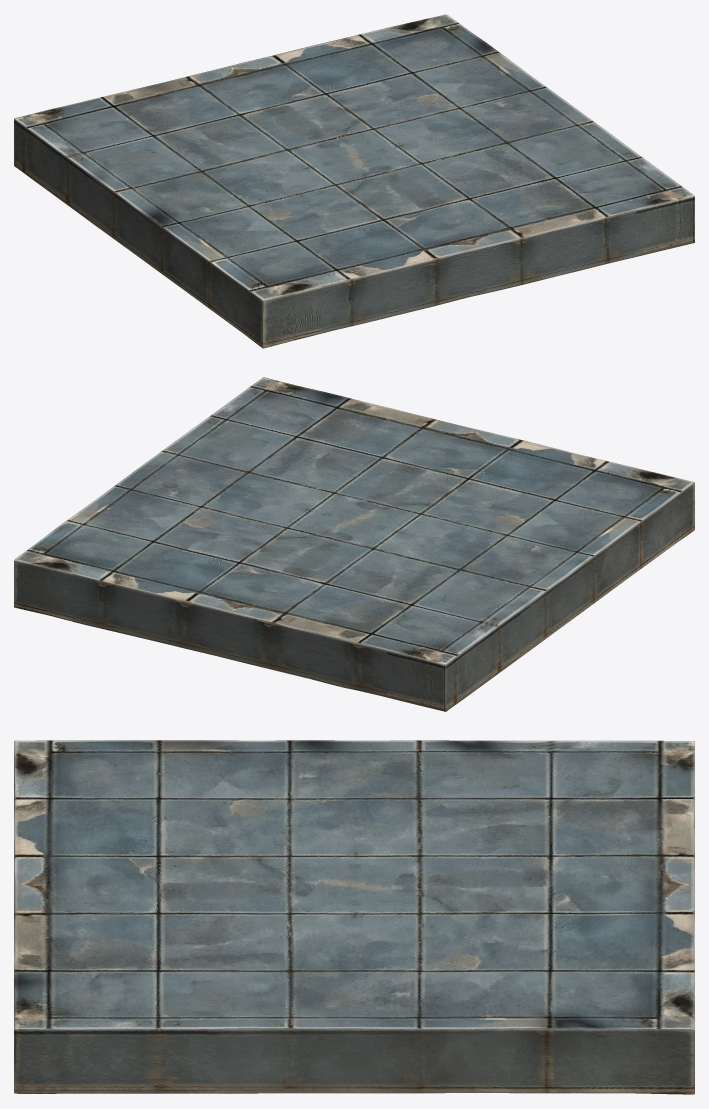
File: floor_tile_blue.fbx
3 views of the same model, one above another, from view 1: azimuth 30°, elevation 25°; view 2: azimuth 150°, elevation 25°; view 3: azimuth 270°, elevation 25° (orthographic). The views are drawn at different scales.
Visible parts, largest first — view 1: mesh_node; view 2: mesh_node; view 3: mesh_node.
Part boxes in pixels (x1=…): mesh_node: x1=14, y1=14, x2=694, y2=348; mesh_node: x1=14, y1=377, x2=694, y2=711; mesh_node: x1=14, y1=740, x2=694, y2=1094.
Bounding box in the file's own units: 100 × 10.82 × 100.
Materials: 1 (1 with a texture image).
